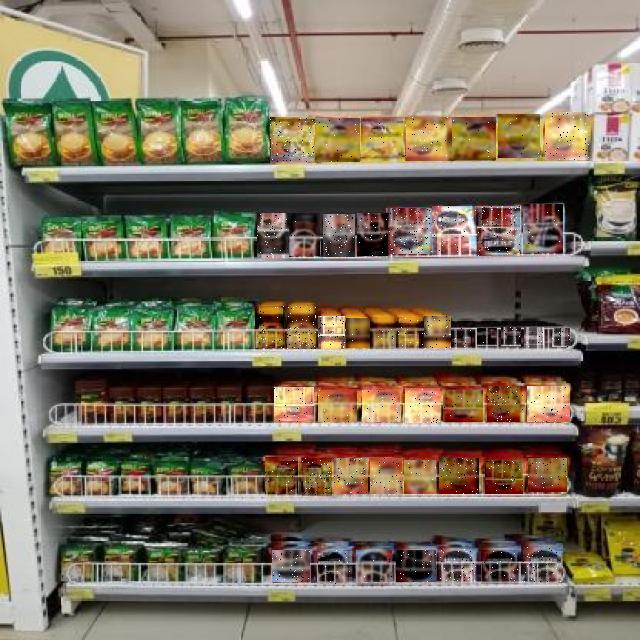Coffee: (432, 206, 476, 256), (477, 206, 520, 256), (270, 117, 316, 163), (386, 209, 432, 255), (546, 112, 590, 160), (406, 117, 452, 161), (360, 117, 406, 161), (315, 118, 360, 162), (523, 204, 563, 253), (453, 117, 497, 160), (498, 114, 540, 158), (527, 386, 570, 422), (439, 458, 479, 494), (257, 214, 289, 258), (274, 387, 314, 422), (289, 213, 321, 256), (323, 214, 355, 257), (523, 547, 562, 582), (357, 213, 388, 256), (528, 459, 567, 493), (488, 387, 524, 423), (481, 550, 519, 584), (485, 460, 523, 494), (396, 550, 436, 582), (443, 390, 483, 422), (255, 307, 285, 349), (318, 390, 357, 422), (287, 306, 316, 349), (405, 388, 440, 423), (334, 458, 368, 494), (439, 549, 476, 582), (265, 457, 298, 494), (273, 550, 311, 582), (363, 390, 401, 422), (318, 550, 352, 584), (356, 550, 392, 582), (370, 458, 402, 494), (302, 458, 332, 496), (404, 460, 436, 494), (396, 317, 424, 349), (318, 316, 345, 349), (424, 317, 451, 349), (370, 317, 396, 349), (347, 318, 371, 348), (501, 327, 521, 347), (524, 328, 544, 348), (451, 328, 472, 347), (477, 328, 497, 346), (552, 328, 570, 347)
